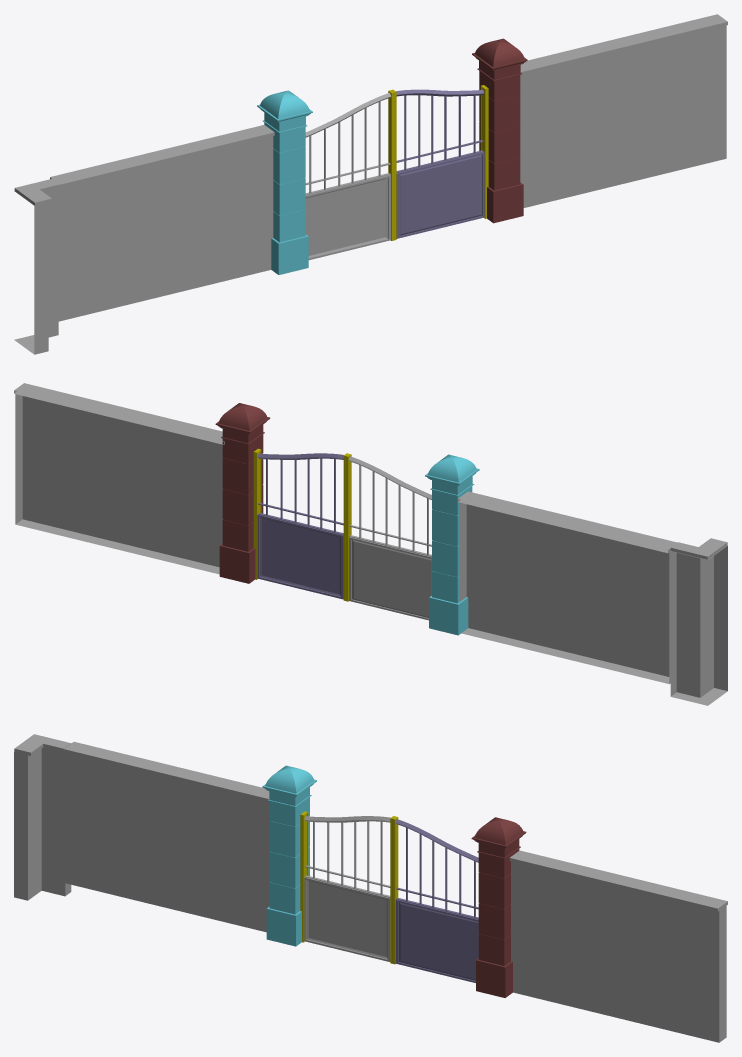
File: gate.fbx
3 views of the same model, one above another, from view 1: azimuth 30°, elevation 25°; view 2: azimuth 150°, elevation 25°; view 3: azimuth 330°, elevation 25° (orthographic). The views are drawn at different scales.
Parts seen in each view (by area): view 1: polySurface25, polySurface32, RightPart, LeftPart, RightPillar, LeftPillar, polySurface29, polySurface26, polySurface33, Pivot (×2); view 2: polySurface25, polySurface32, polySurface29, RightPart, LeftPart, RightPillar, LeftPillar, polySurface26, polySurface33, Pivot (×2); view 3: polySurface32, polySurface25, polySurface29, LeftPart, RightPart, LeftPillar, RightPillar, polySurface33, polySurface26, Pivot (×2).
Part boxes in pixels (x1=…): polySurface25: x1=58, y1=136, x2=273, y2=321; polySurface32: x1=520, y1=25, x2=726, y2=207; RightPart: x1=396, y1=89, x2=484, y2=238; LeftPart: x1=305, y1=93, x2=391, y2=260; RightPillar: x1=472, y1=38, x2=527, y2=223; LeftPillar: x1=257, y1=90, x2=312, y2=274; polySurface29: x1=14, y1=178, x2=60, y2=354; polySurface26: x1=50, y1=125, x2=274, y2=187; polySurface33: x1=520, y1=14, x2=727, y2=75; Pivot (×2): x1=388, y1=85, x2=488, y2=240; polySurface25: x1=459, y1=500, x2=670, y2=684; polySurface32: x1=15, y1=391, x2=222, y2=574; polySurface29: x1=670, y1=538, x2=727, y2=705; RightPart: x1=257, y1=453, x2=343, y2=599; LeftPart: x1=348, y1=456, x2=431, y2=620; RightPillar: x1=215, y1=403, x2=270, y2=583; LeftPillar: x1=425, y1=454, x2=479, y2=635; polySurface26: x1=458, y1=491, x2=677, y2=553; polySurface33: x1=14, y1=383, x2=224, y2=444; Pivot (×2): x1=253, y1=448, x2=351, y2=601; polySurface32: x1=510, y1=861, x2=726, y2=1042; polySurface25: x1=65, y1=753, x2=269, y2=932; polySurface29: x1=14, y1=734, x2=71, y2=900; LeftPart: x1=304, y1=816, x2=390, y2=961; RightPart: x1=395, y1=819, x2=478, y2=982; LeftPillar: x1=262, y1=765, x2=316, y2=946; RightPillar: x1=471, y1=817, x2=526, y2=997; polySurface33: x1=509, y1=850, x2=727, y2=911; polySurface26: x1=63, y1=741, x2=269, y2=802; Pivot (×2): x1=300, y1=811, x2=398, y2=964.
Bounding box in the file's own units: 1953 × 489 × 123.
